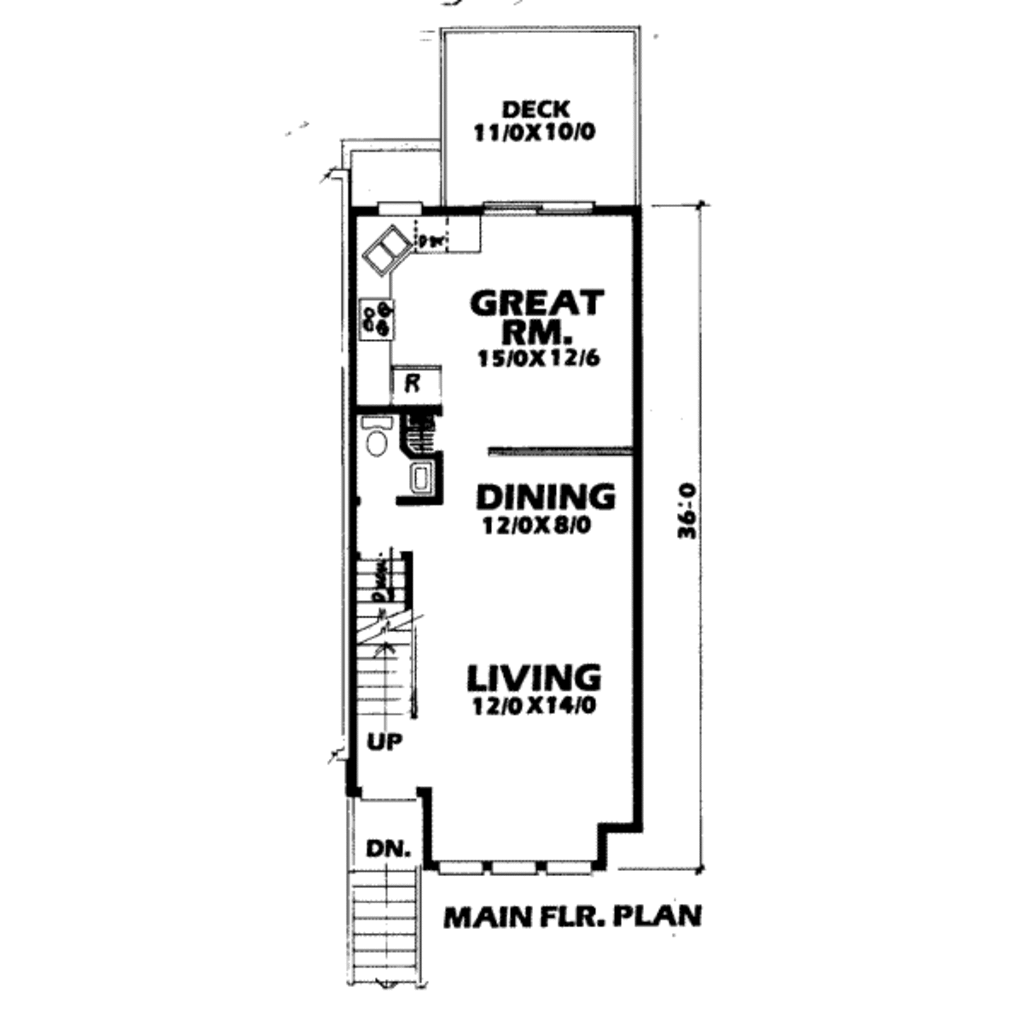large_sink: (359, 405, 395, 463)
stairs: (341, 778, 433, 997), (355, 547, 430, 722)
twin_sink: (355, 214, 431, 292)
window: (478, 202, 594, 217), (542, 853, 592, 885), (438, 850, 486, 878), (489, 861, 545, 880)
